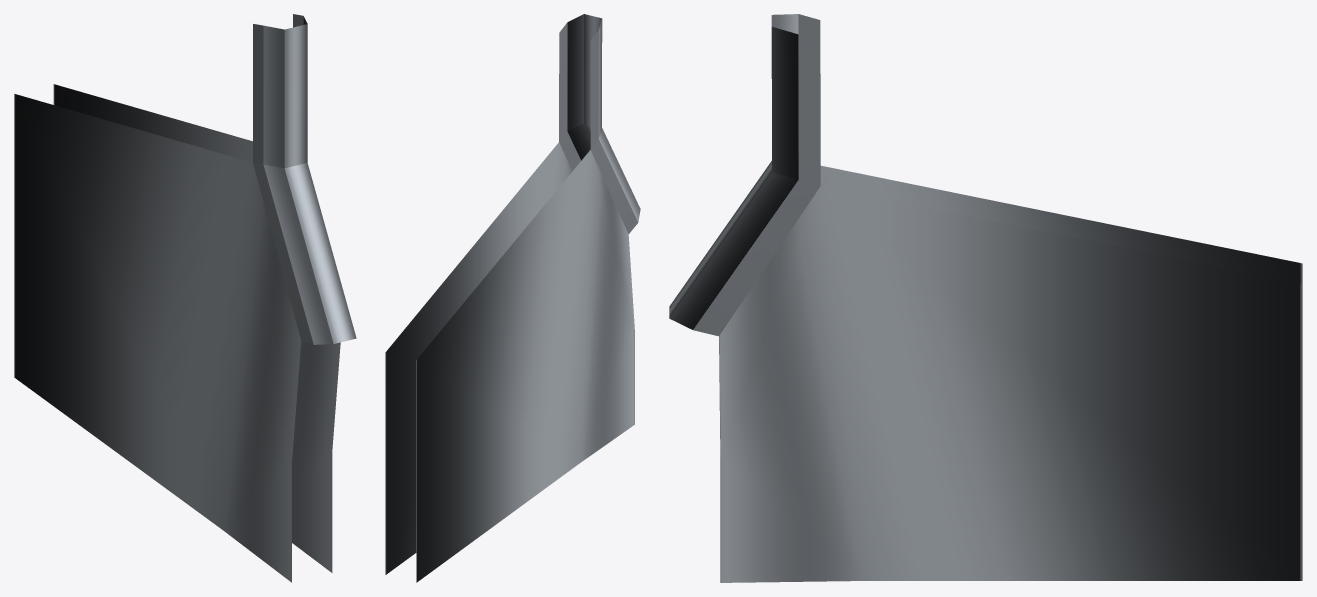
The model's file is neon.FBX.
The picture shows the model from 3 angles, left to right: view 1: azimuth 30°, elevation 25°; view 2: azimuth 150°, elevation 25°; view 3: azimuth 270°, elevation 25°; orthographic projection. The views are drawn at different scales.
Visible parts, largest first — view 1: polySurface171, neon; view 2: polySurface171, neon; view 3: polySurface171, neon.
Boxes of the visible parts, x1,y1,x2,y2 form: polySurface171: (14, 84, 340, 582); neon: (253, 14, 356, 344); polySurface171: (385, 142, 634, 582); neon: (559, 14, 640, 233); polySurface171: (719, 165, 1302, 582); neon: (669, 14, 820, 336).
Size of the model in its own units: 0.0896 by 0.9347 by 0.9648.
